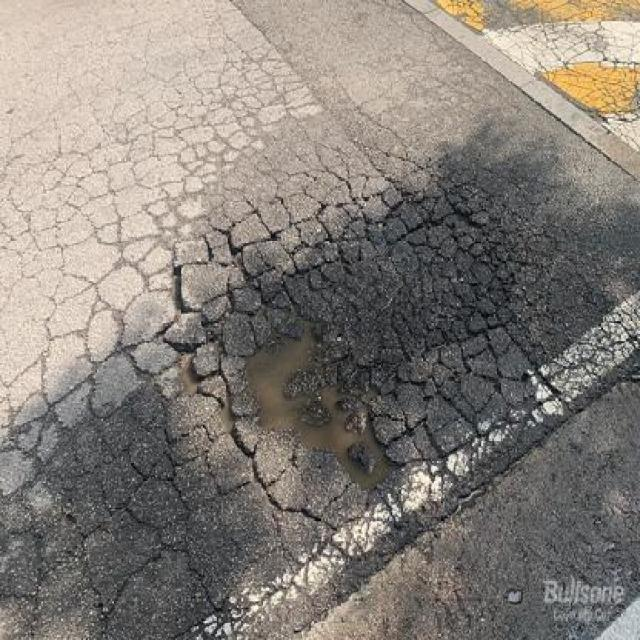Pothole: (228, 281, 412, 494)
